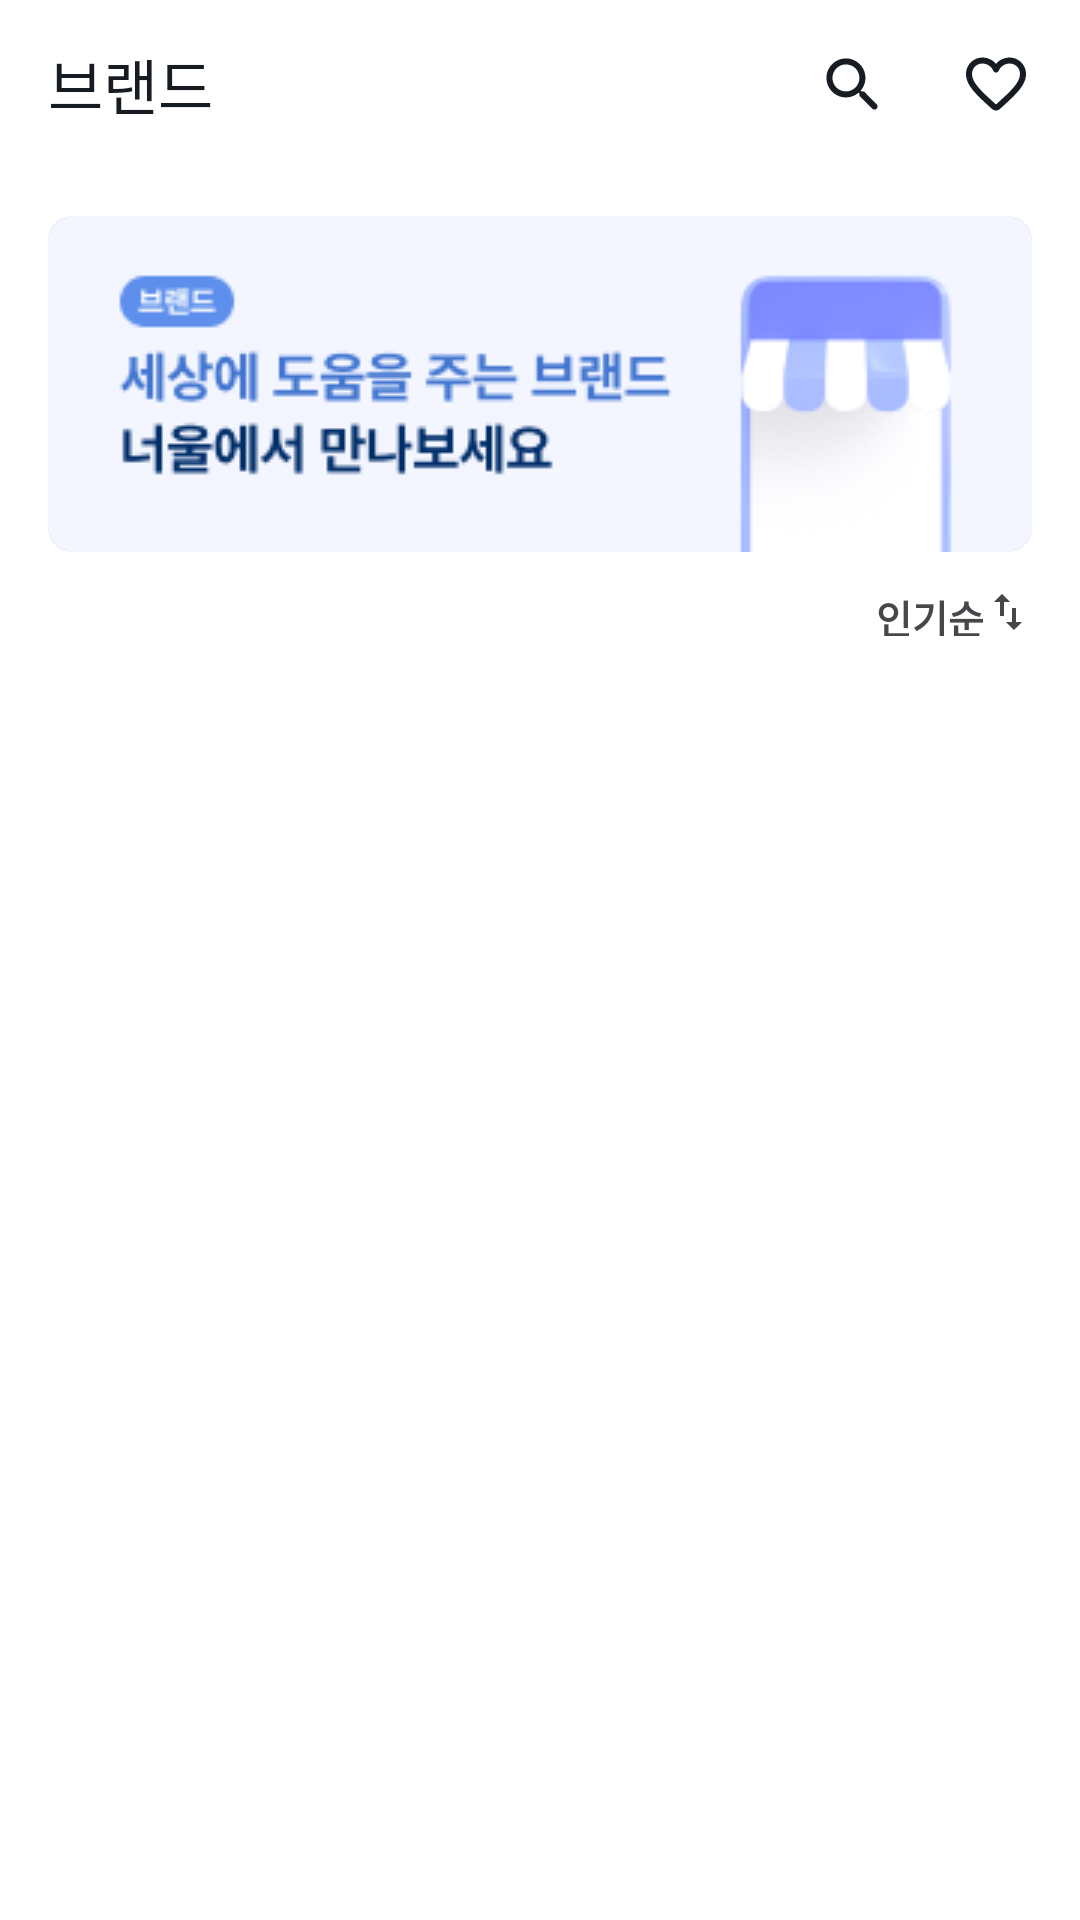

Point at icon controls on the screen. Image size 1080px×1920px, points as [x,y].
favorite border: [996,84]
search: [852,84]
